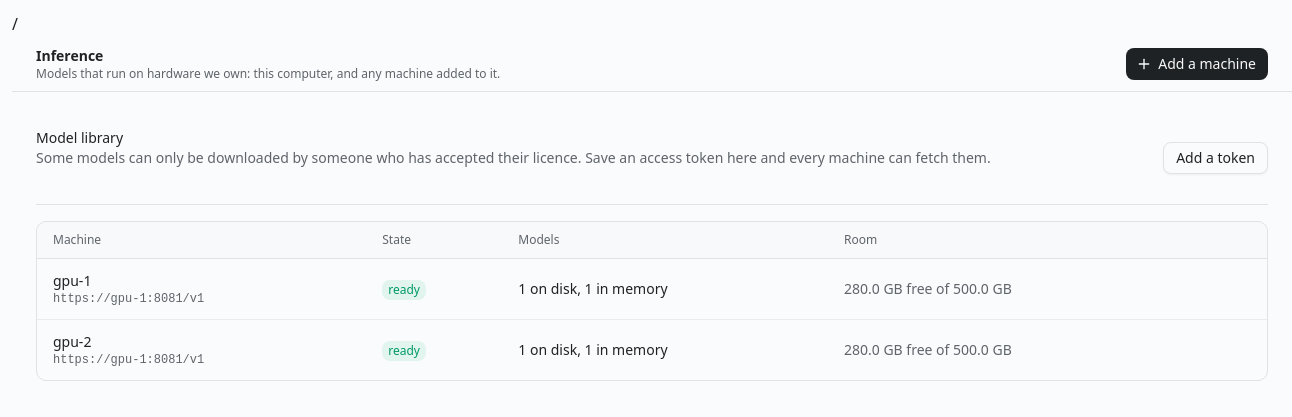
it: machines › names the workspaces that may use a model
Click the text "gpu-1".
click(72, 280)  # box [53,271,91,290]
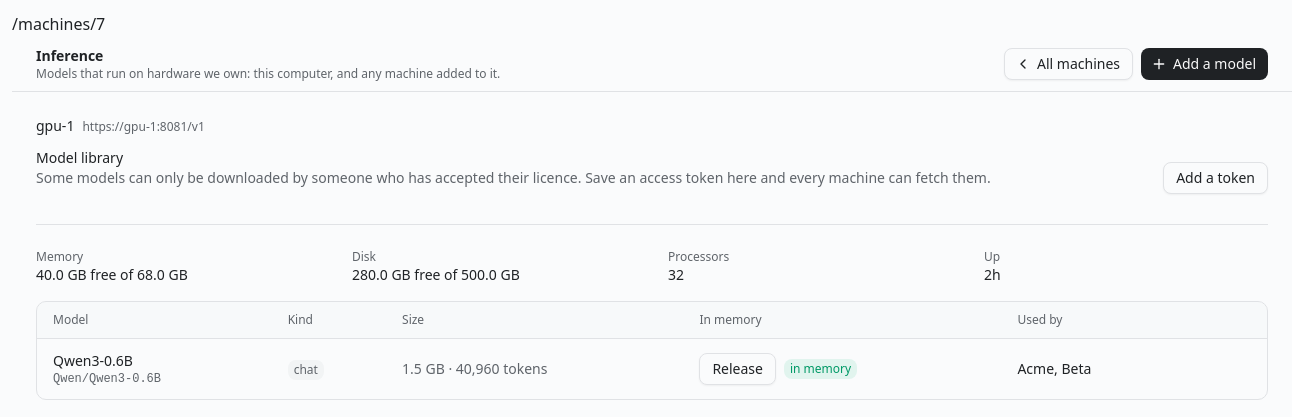
Check: the text "Acme, Beta" is shown, box [1017,359,1091,378]
